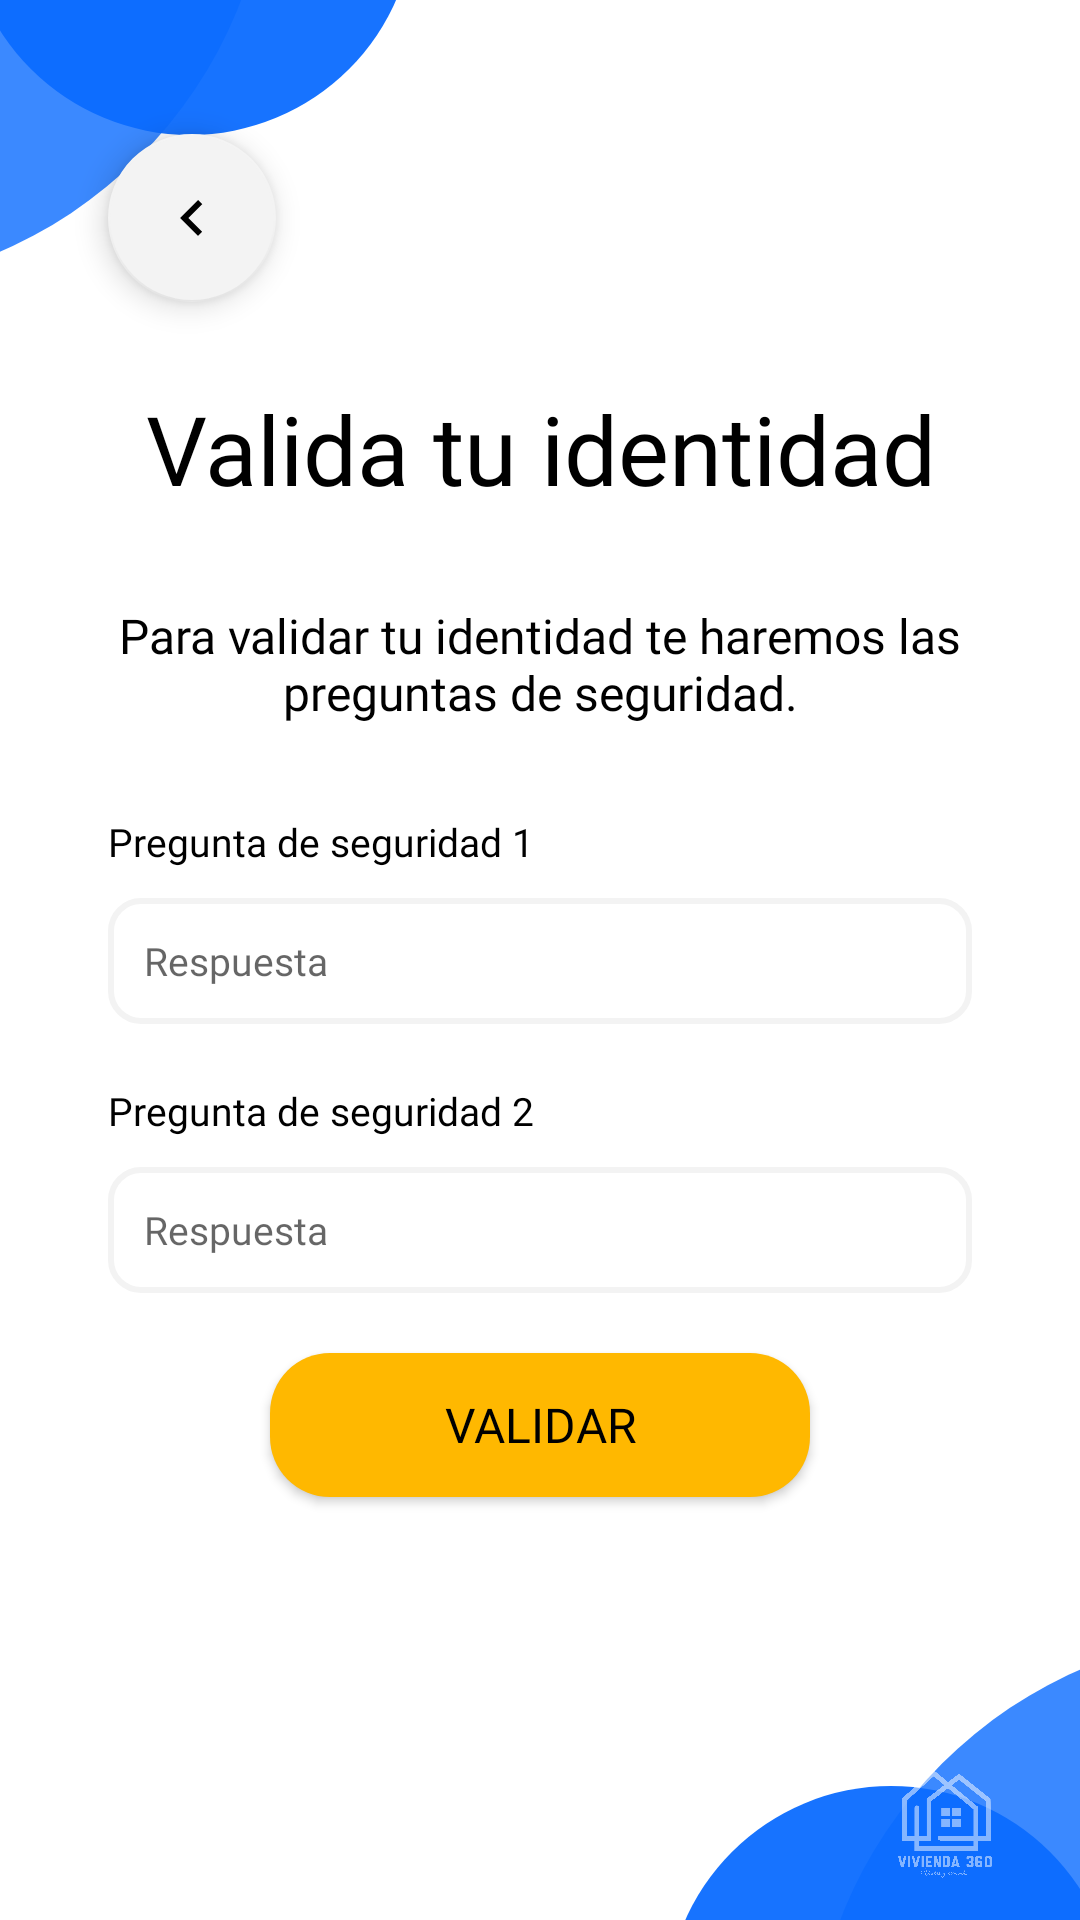

Where icons sit on this 1080w x 1920h app screen, as (x1, y1, x2, y2):
back: (108, 134, 276, 302)
